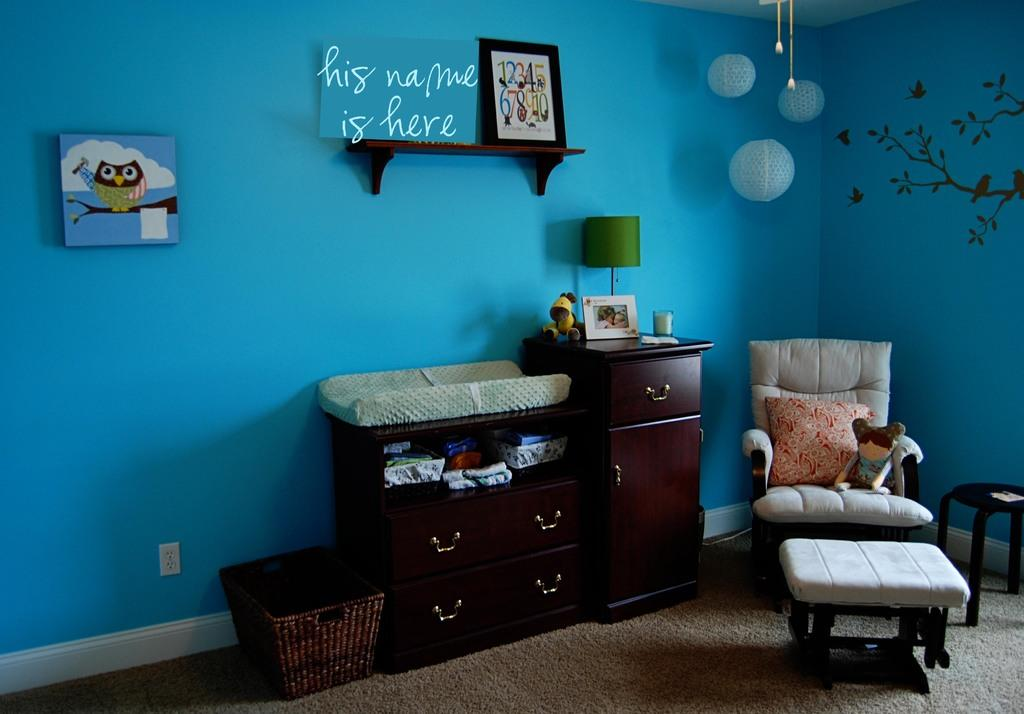cabinet_door: (612, 433, 692, 584), (508, 554, 590, 618), (610, 364, 696, 413), (388, 518, 478, 564), (401, 592, 476, 647), (504, 500, 579, 538)
handle: (432, 596, 466, 629), (426, 531, 464, 560), (530, 576, 564, 603), (644, 378, 674, 406), (534, 515, 568, 534), (609, 466, 623, 492)
